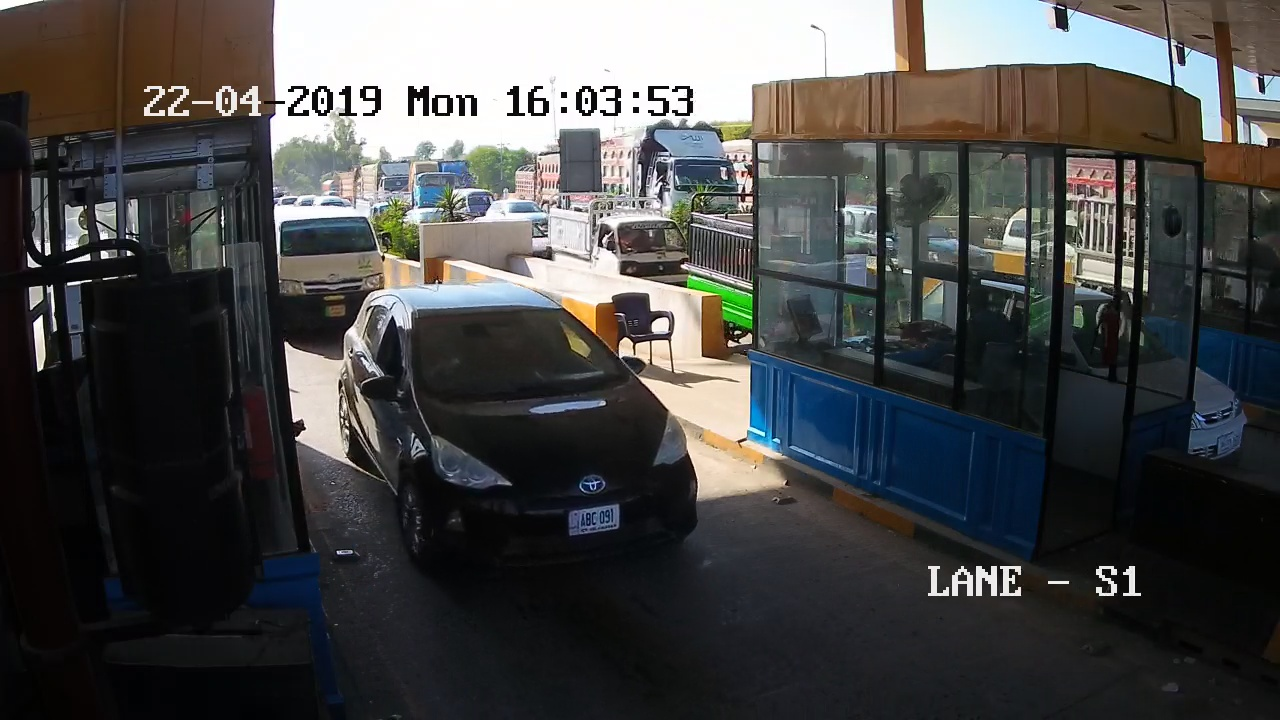Number Plate (Car): (566, 506, 622, 534)
